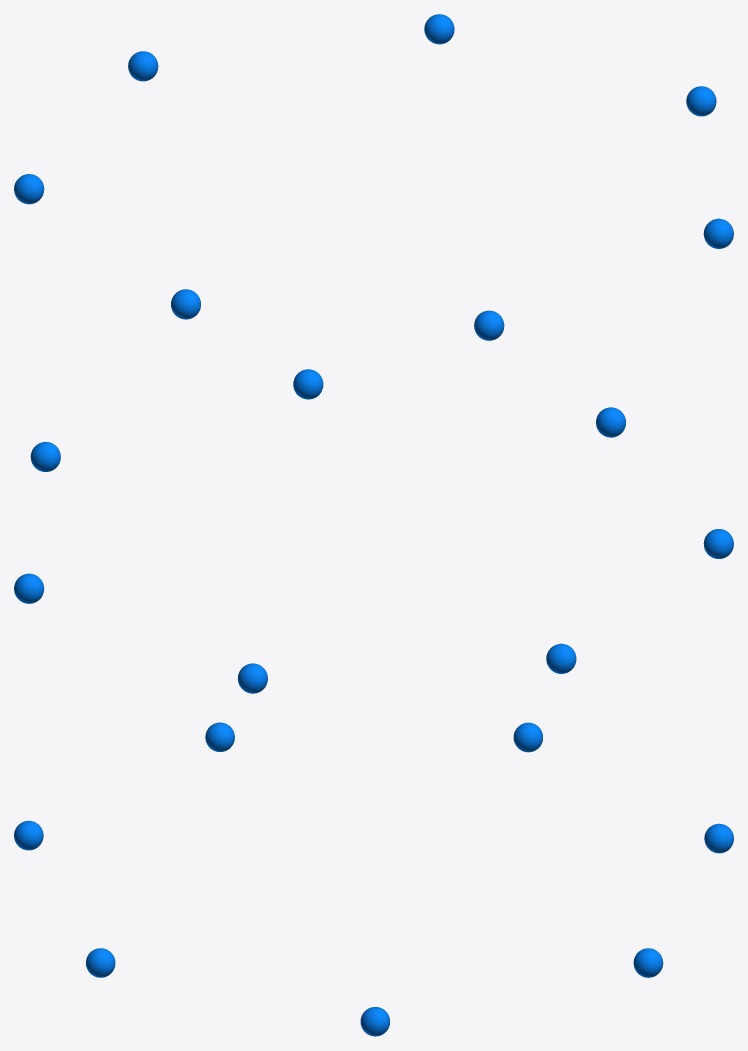
The picture shows the model from 3 angles, top to bottom: view 1: azimuth 30°, elevation 25°; view 2: azimuth 150°, elevation 25°; view 3: azimuth 270°, elevation 25°; orthographic projection. The views are drawn at different scales.
Parts seen in each view (by area): view 1: Sphere052; view 2: Sphere052; view 3: Sphere052.
Boxes of the visible parts, x1,y1,x2,y2 form: Sphere052: (14,14,733,340); Sphere052: (14,369,733,693); Sphere052: (14,722,733,1036).
Size of the model in its own units: 194 by 8.22 by 199.
